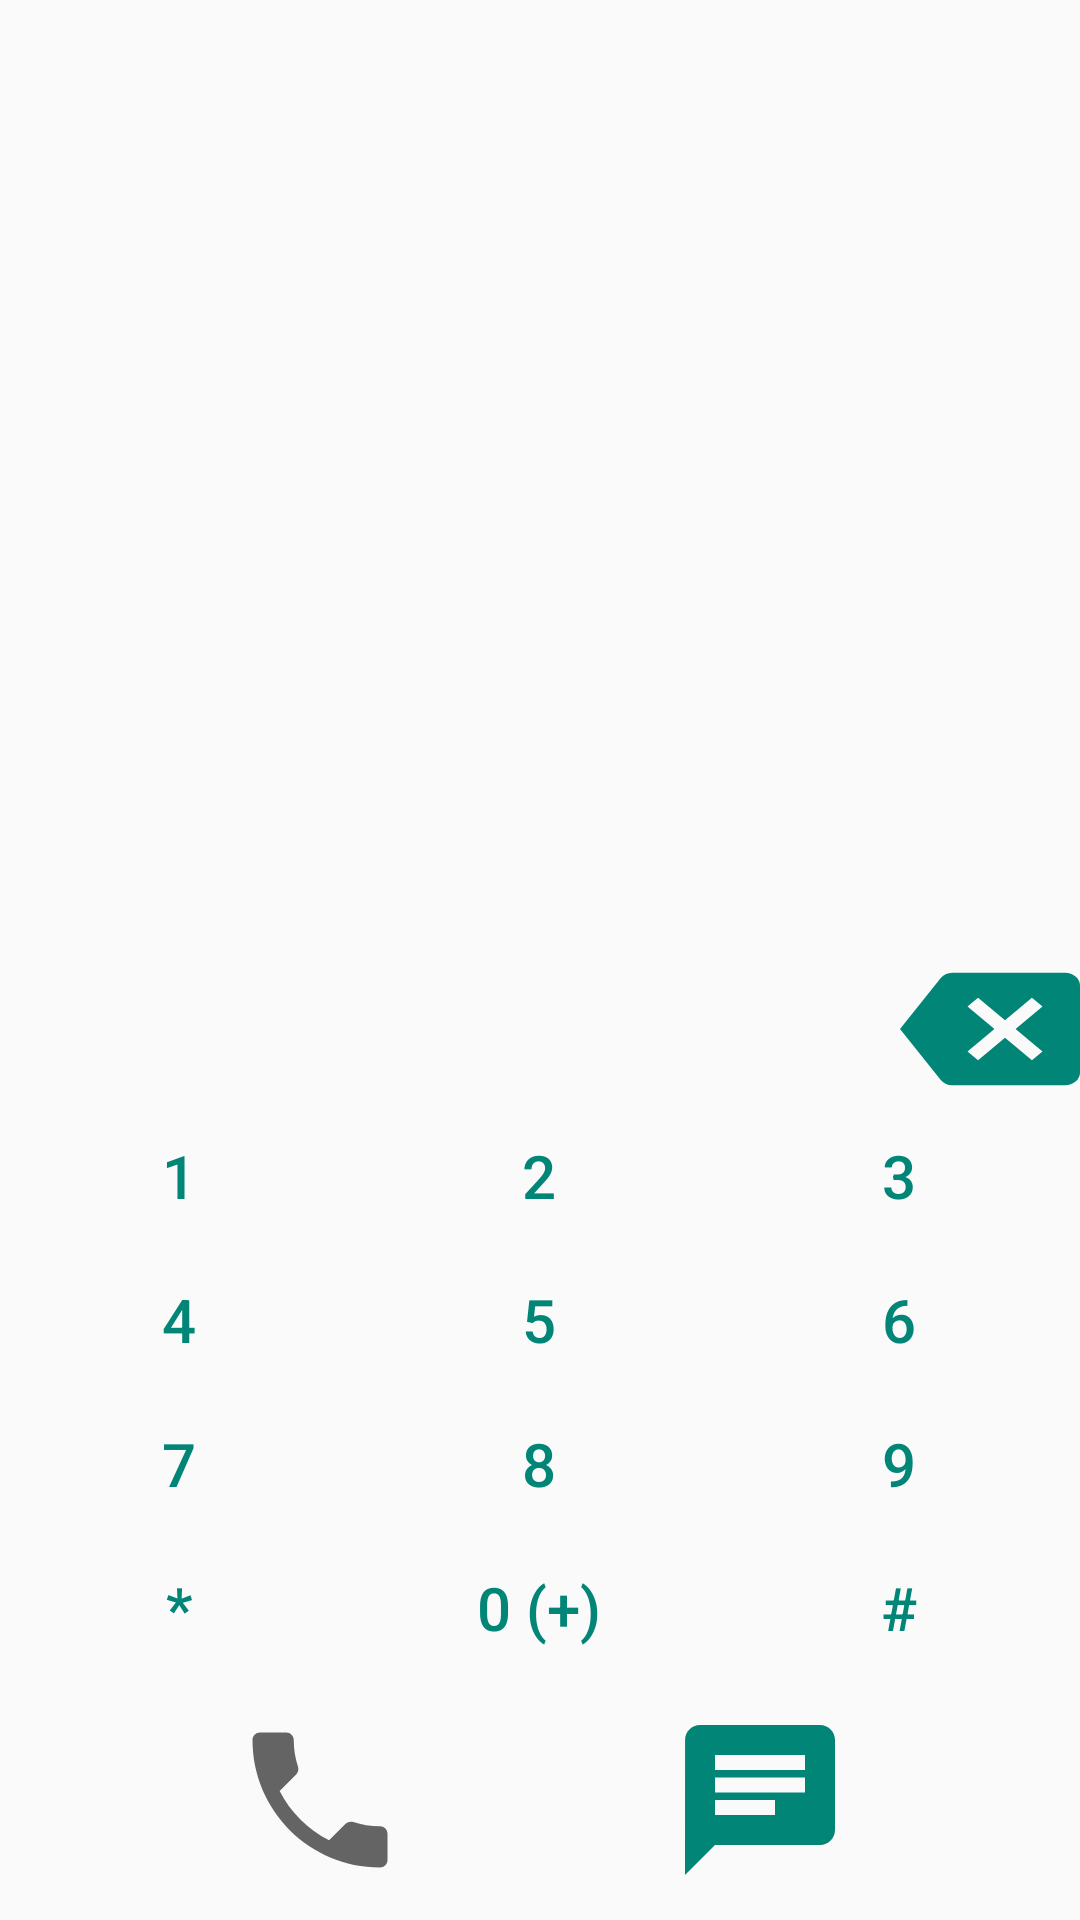

Named icons in this screenshot (1080*1920) and their centers, (x=x, y=y):
backspace: (x=990, y=1029)
messages: (x=760, y=1800)
phone: (x=320, y=1800)
